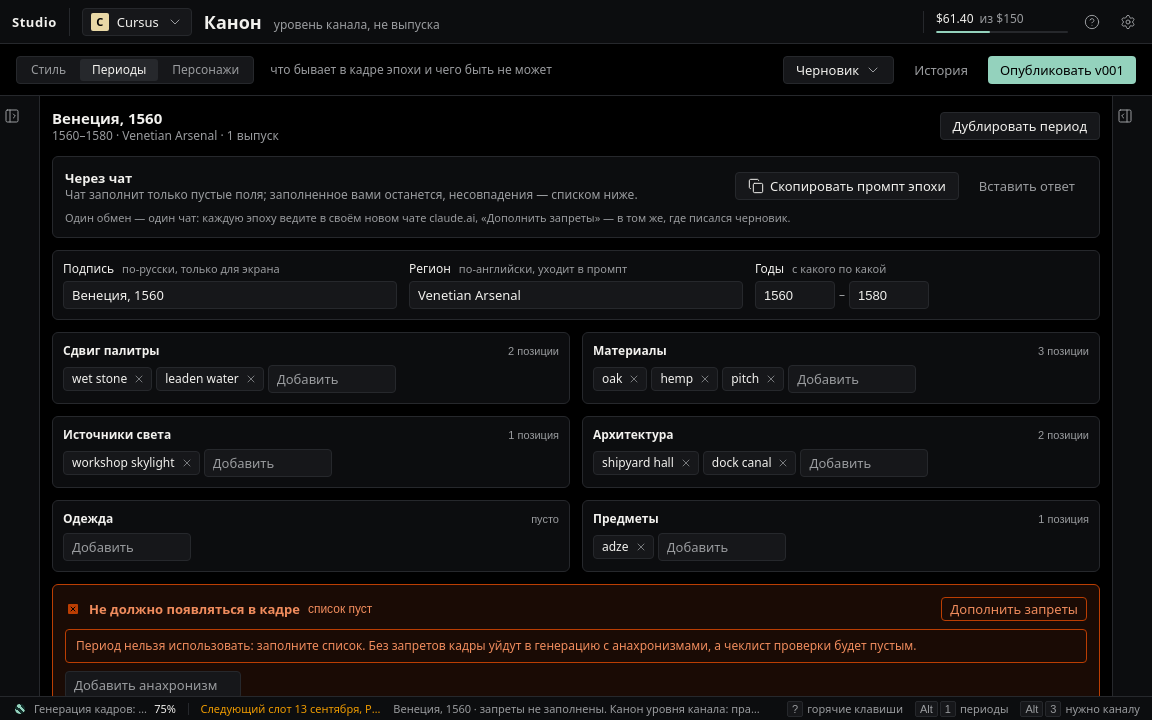
Test: слой «Периоды» › эпоха без запретов: красный блок, «Опубликовать» отказывает текстом бэкенда, черновик остаётся
Expected: the heading "Венеция, 1560" is shown, left=52, top=108, right=162, bottom=128
Expected: the 1st message shows "Период нельзя использовать: заполните список", left=76, top=637, right=916, bottom=654
Click the button "Опубликовать v001": (1062, 70) left=988, top=56, right=1136, bottom=84
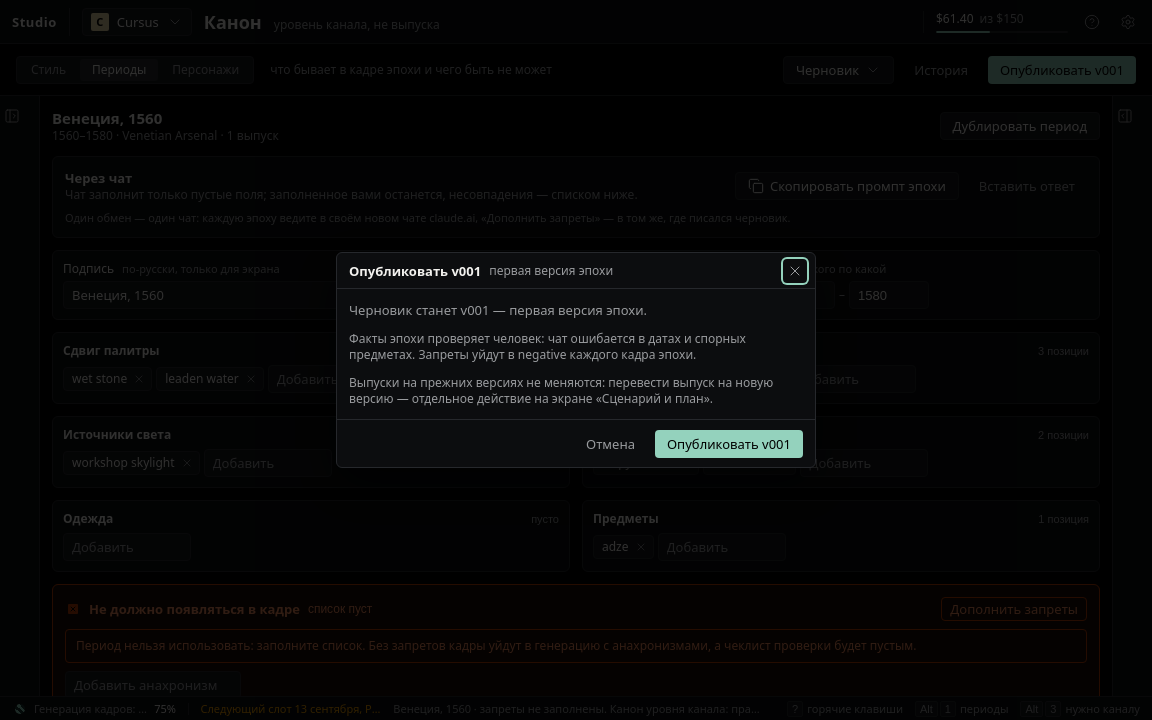
Now the dialog "Опубликовать v001" shows "Факты эпохи проверяет человек", box left=349, top=330, right=746, bottom=363
Click the button "Опубликовать v001": (729, 444) left=655, top=430, right=803, bottom=458
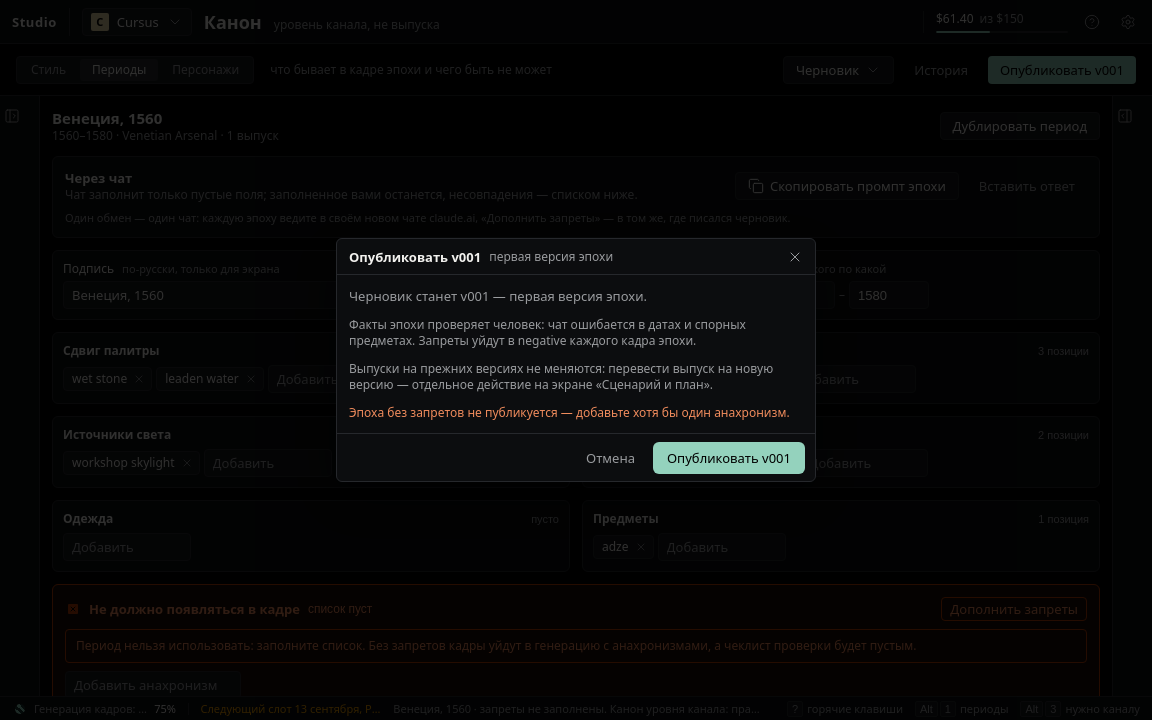
Now the list items read "Эпоха без запретов не публикуется — добавьте хотя бы один анахронизм.", in this order, box left=349, top=405, right=803, bottom=421
